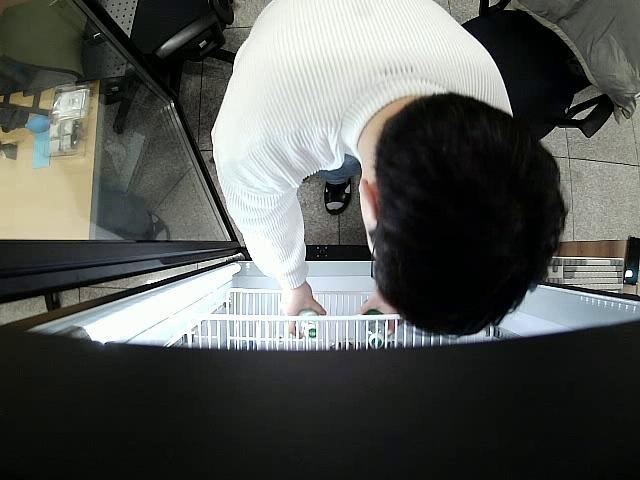18_trevi: (364, 309, 388, 350), (297, 306, 324, 341)
